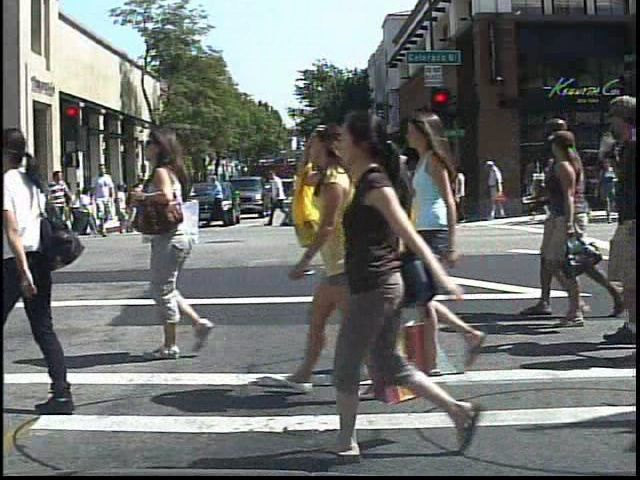person: (326, 103, 459, 464), (397, 104, 534, 380), (282, 113, 387, 400), (0, 116, 95, 427), (119, 117, 227, 363), (88, 160, 121, 240), (482, 154, 513, 227), (43, 165, 72, 240), (13, 170, 37, 242), (101, 177, 121, 219), (164, 175, 183, 210)
